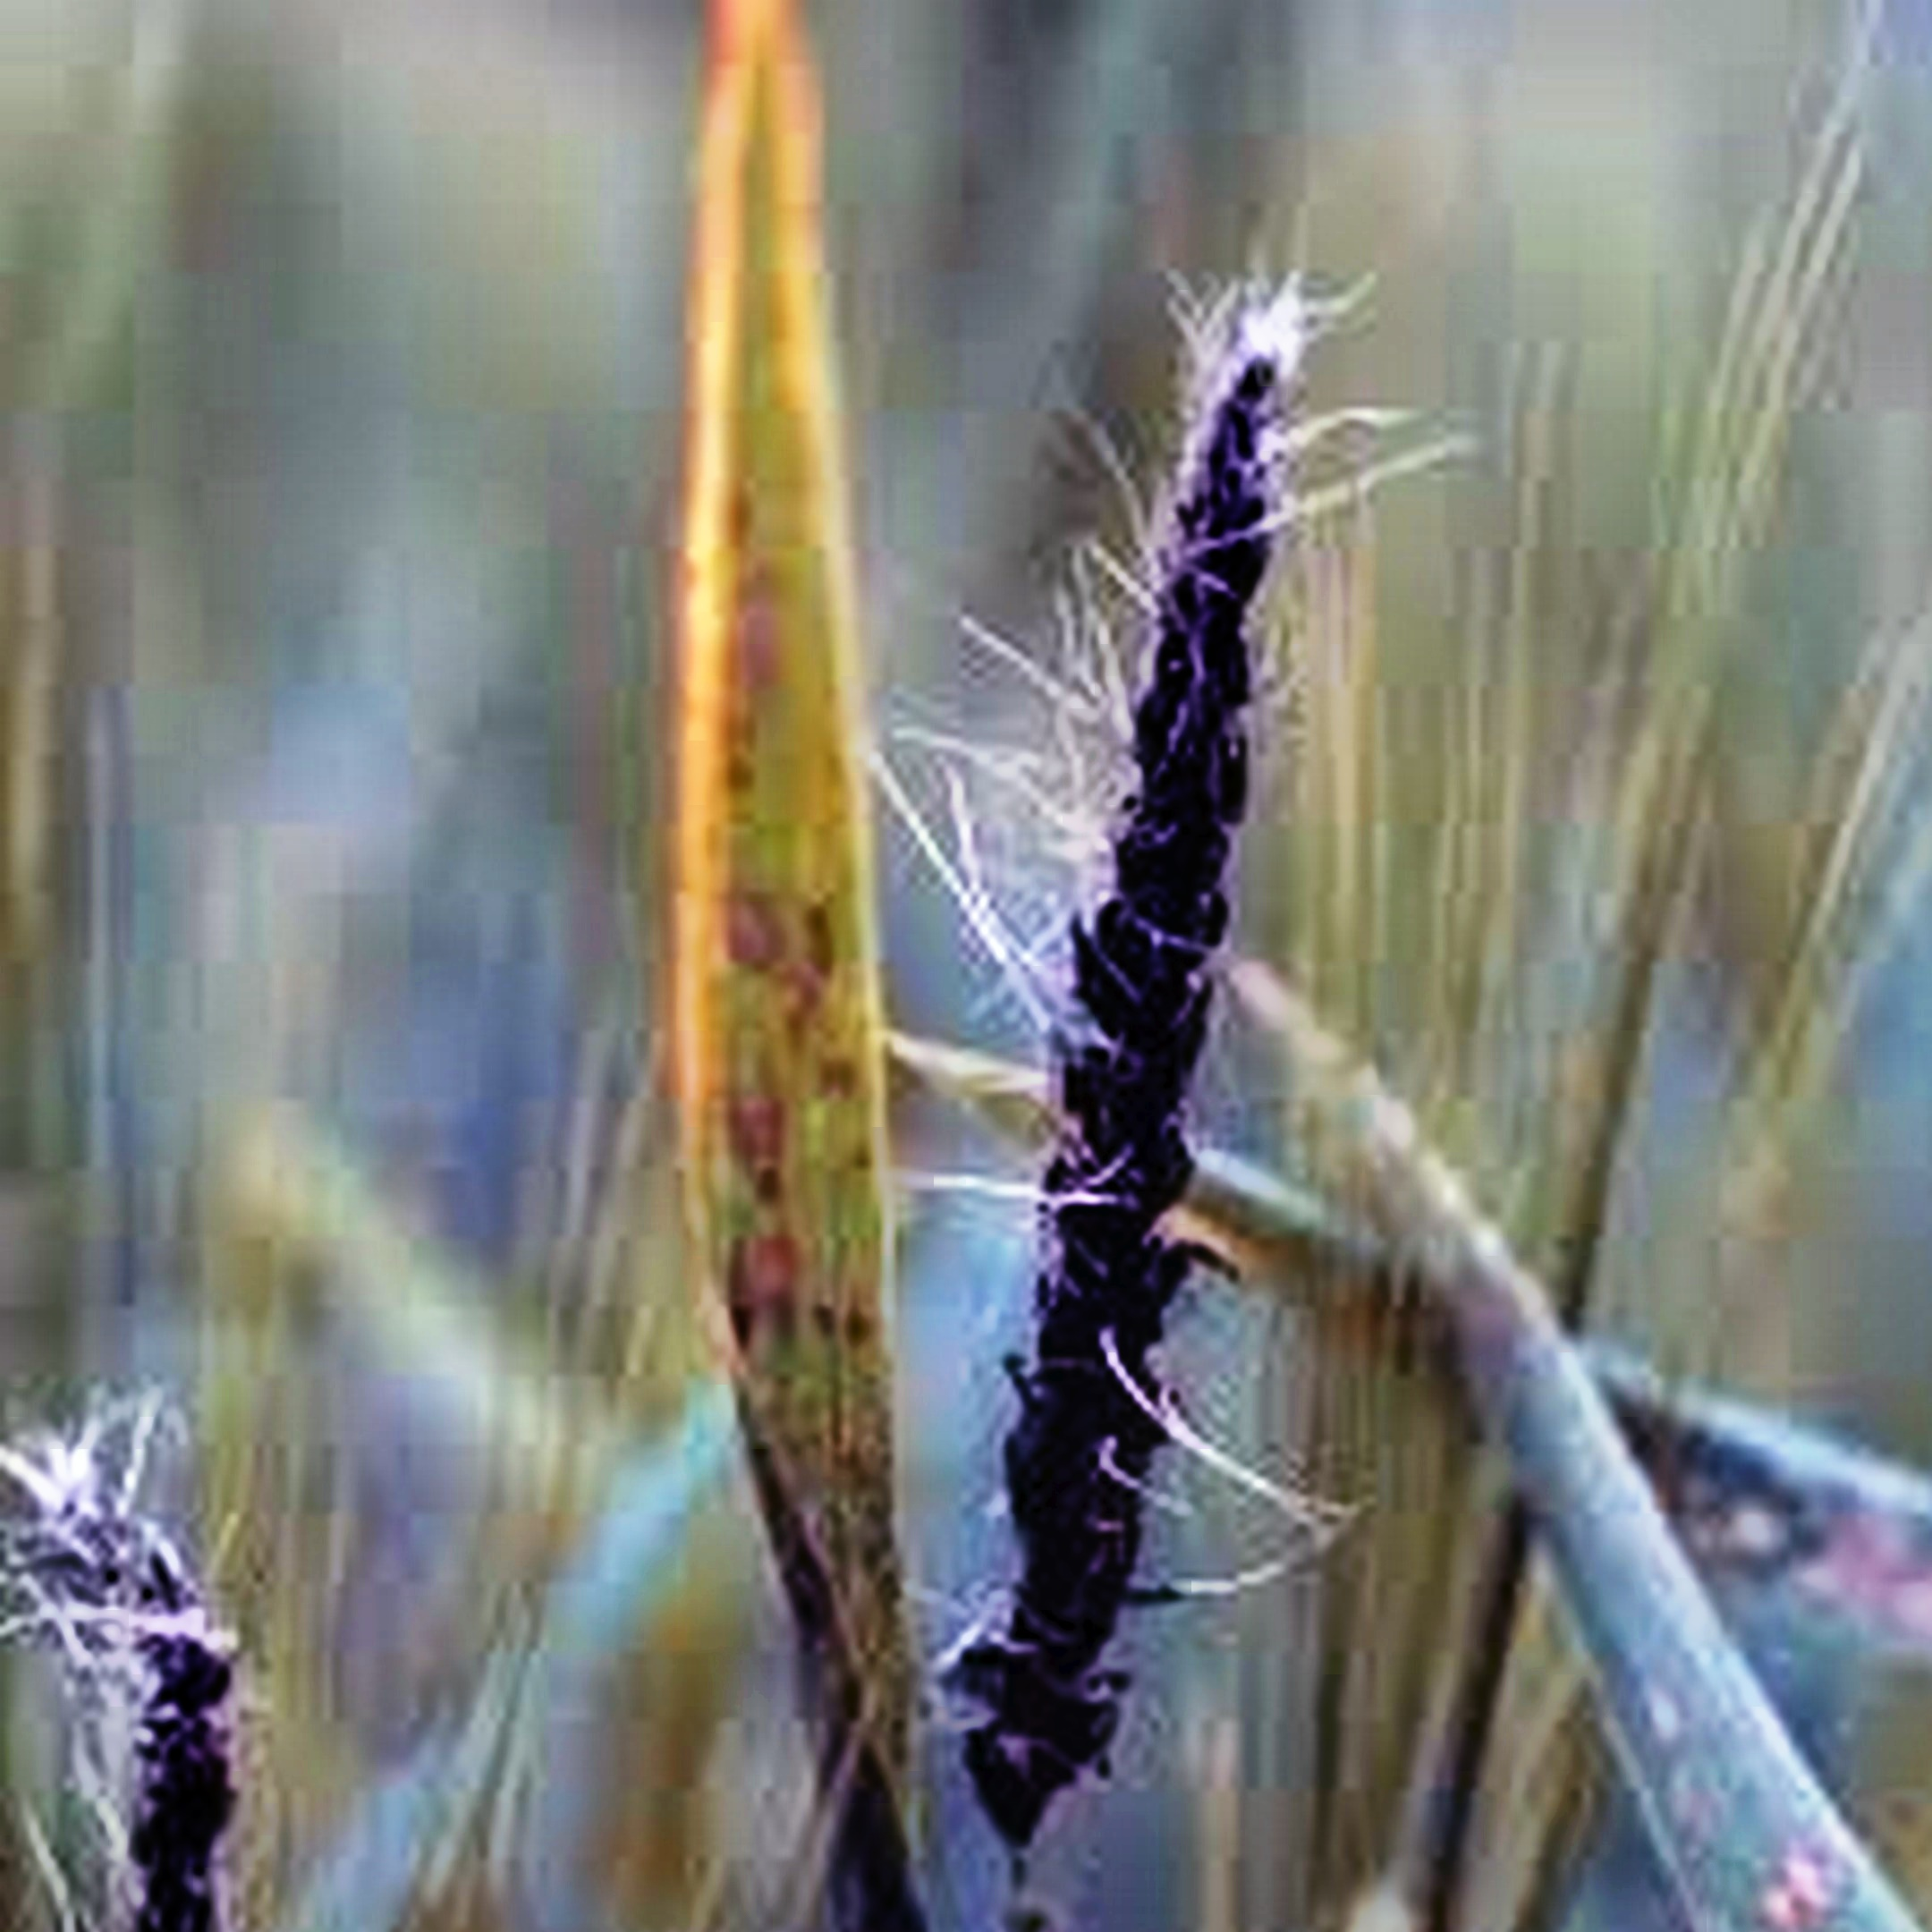Wheat Loose Smut: (945, 264, 1375, 1723)
